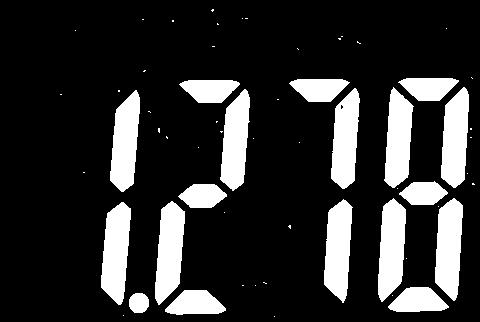1: (95, 87, 143, 307)
2: (154, 72, 257, 317)
7: (287, 74, 364, 307)
8: (375, 77, 472, 311)
dot: (127, 290, 151, 314)
